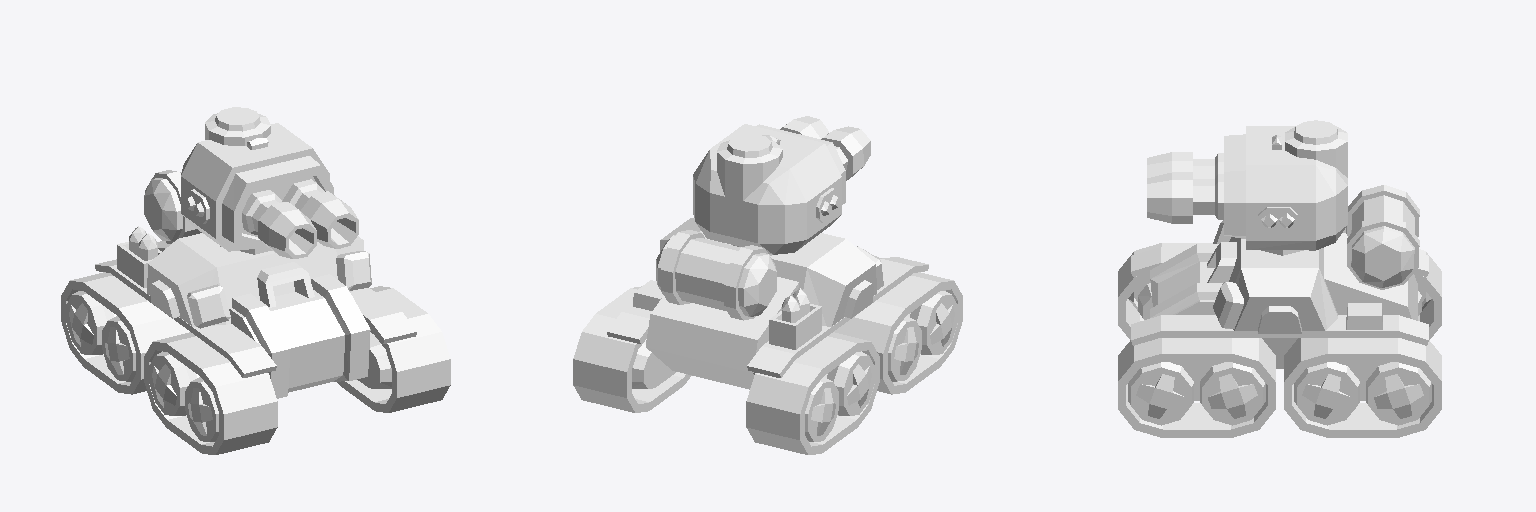
The model's file is export3dcoat.obj.
The picture shows the model from 3 angles: view 1: azimuth 30°, elevation 25°; view 2: azimuth 150°, elevation 25°; view 3: azimuth 270°, elevation 25°; orthographic projection.
Parts seen in each view (by area): view 1: Object024, Object001; view 2: Object024, Object001; view 3: Object024, Object001.
Part boxes in pixels (x1,y1,x2,y2): Object024: (66,107,416,441); Object001: (61,272,450,454); Object024: (607,116,957,441); Object001: (573,272,962,454); Object024: (1128,120,1431,425); Object001: (1118,243,1441,437).
Bounding box in the file's own units: 71.75 × 72.81 × 84.69.